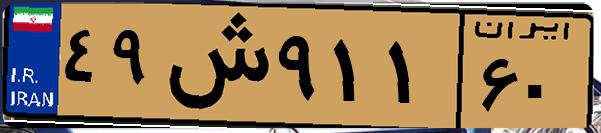0: (525, 38, 570, 115)
1: (385, 28, 445, 110), (330, 28, 385, 110)
4: (57, 26, 110, 100)
6: (475, 38, 525, 113)
9: (270, 28, 330, 110), (110, 28, 158, 98)
ش: (158, 12, 270, 120)
